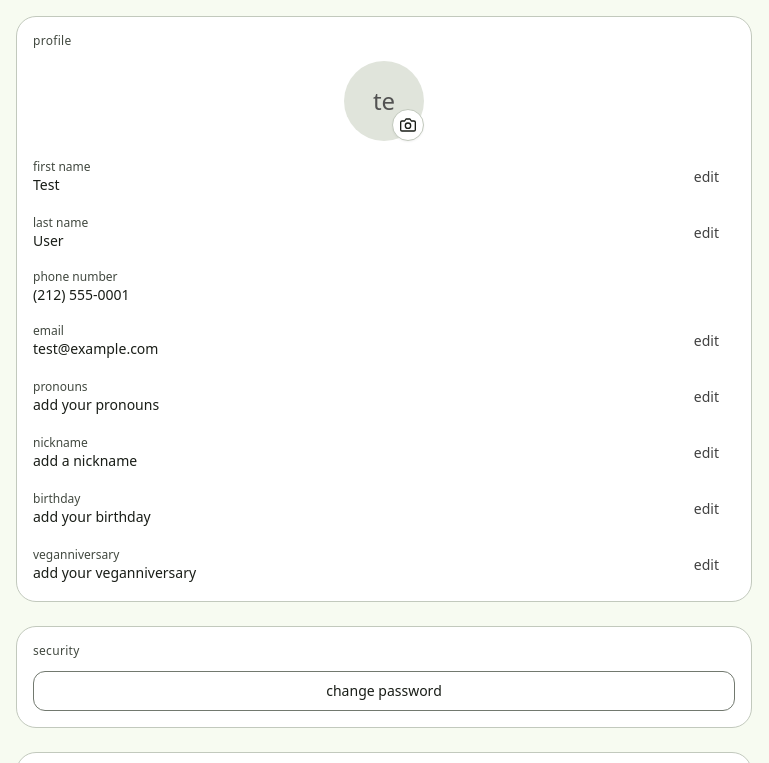
Test: SettingsScreen › keeps the field label visible while editing a date
The image size is (769, 763).
Click the button with aria-label "edit veganniversary": (706, 565) [678,545,735,585]
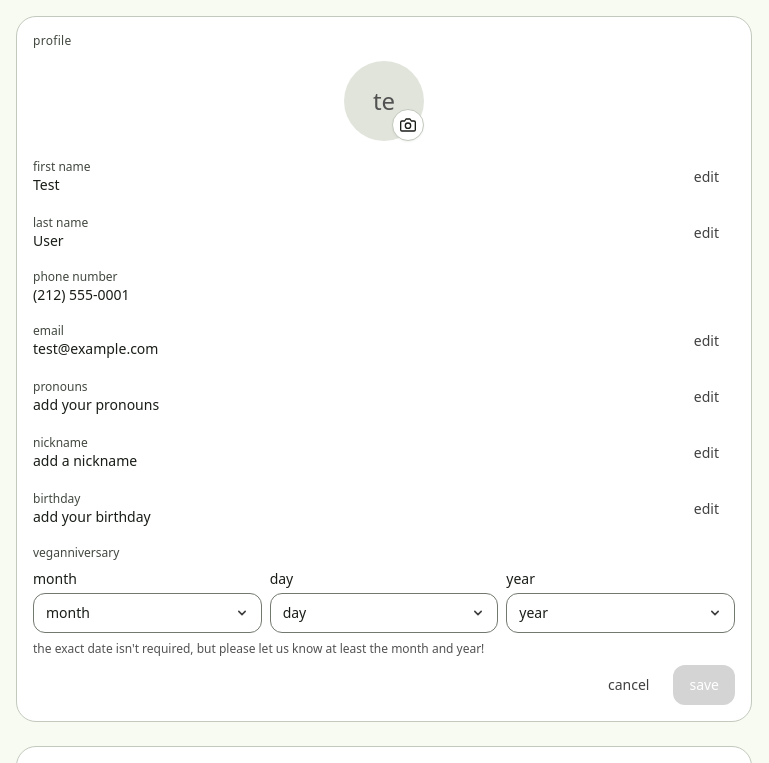
Check: the text "veganniversary" is shown, box [33,544,119,561]
Check: the dropdown labelled "month" is shown, box [33,593,262,633]
Click the button "cancel": (629, 685) [592,665,666,705]
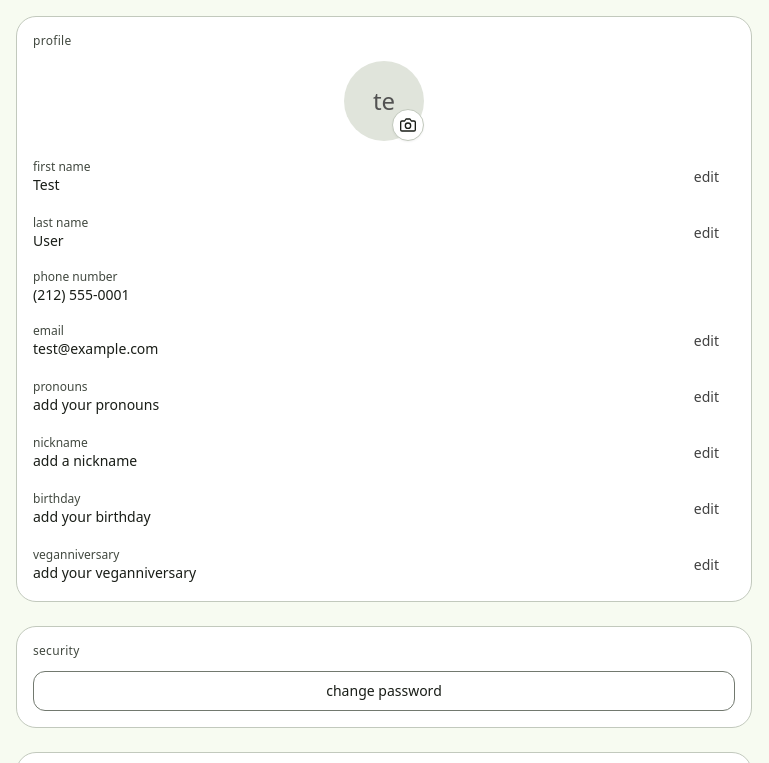
Click the button with aria-label "edit birthday": (706, 509) [678,489,735,529]
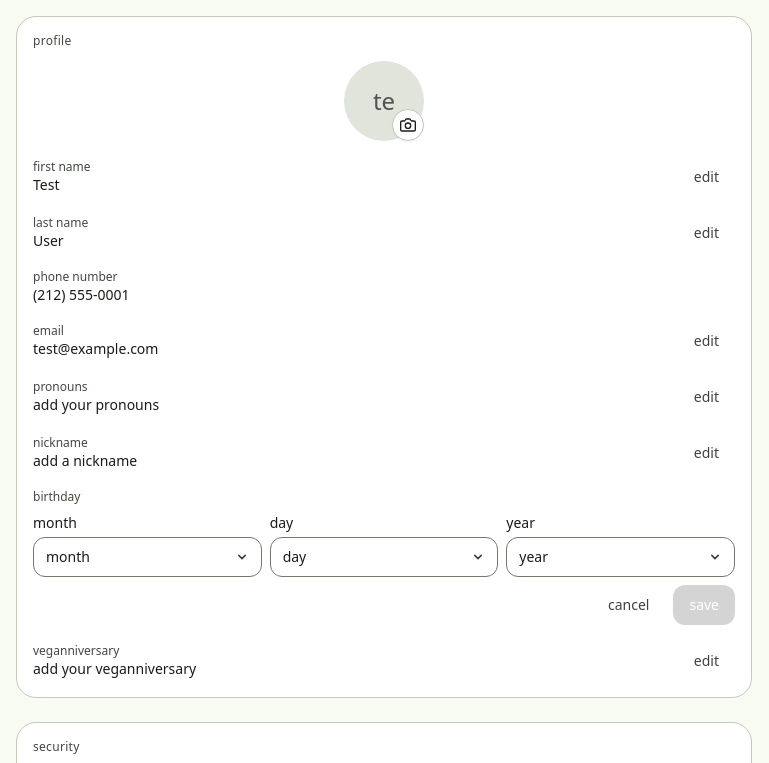
Check: the text "birthday" is shown, box [33,488,80,505]
Check: the dropdown labelled "month" is shown, box [33,537,262,577]
